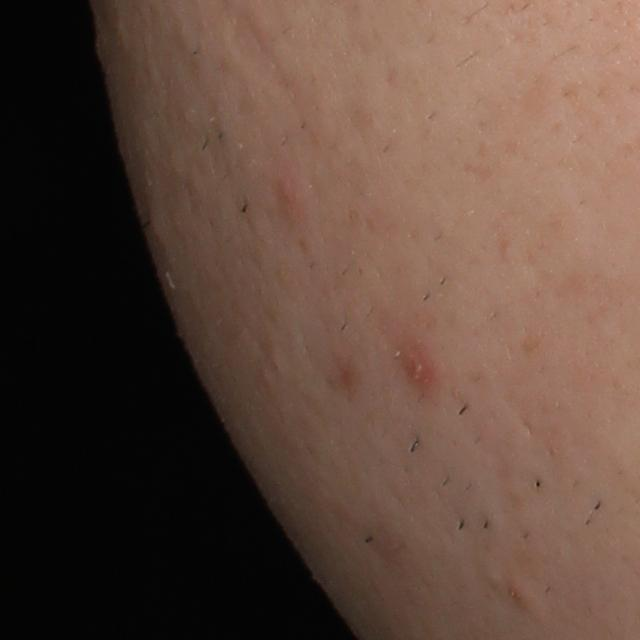papule: (272, 165, 307, 212), (502, 576, 535, 612)
